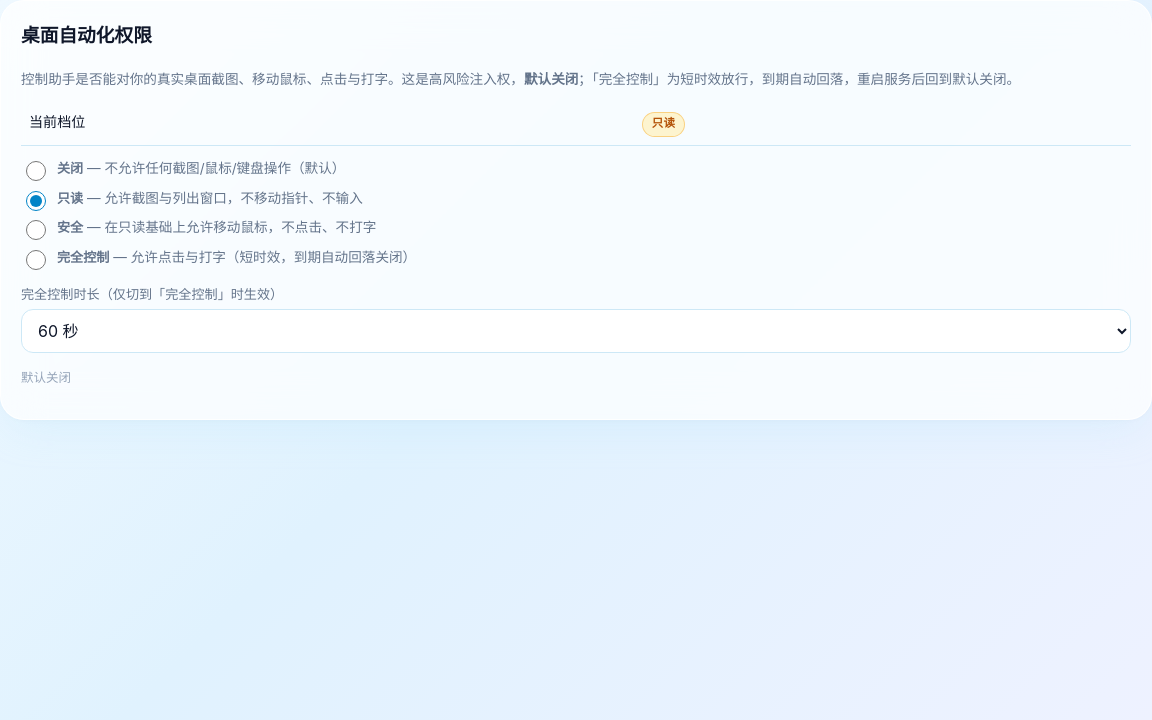
Test: AutomationPermissionCard 关闭档 › 点“关闭”即 PUT off 并提示已关闭（关闭键不是摆设）
Click the radio button with test id "automation-mode-off".
click(36, 171)  # box [26,161,46,181]
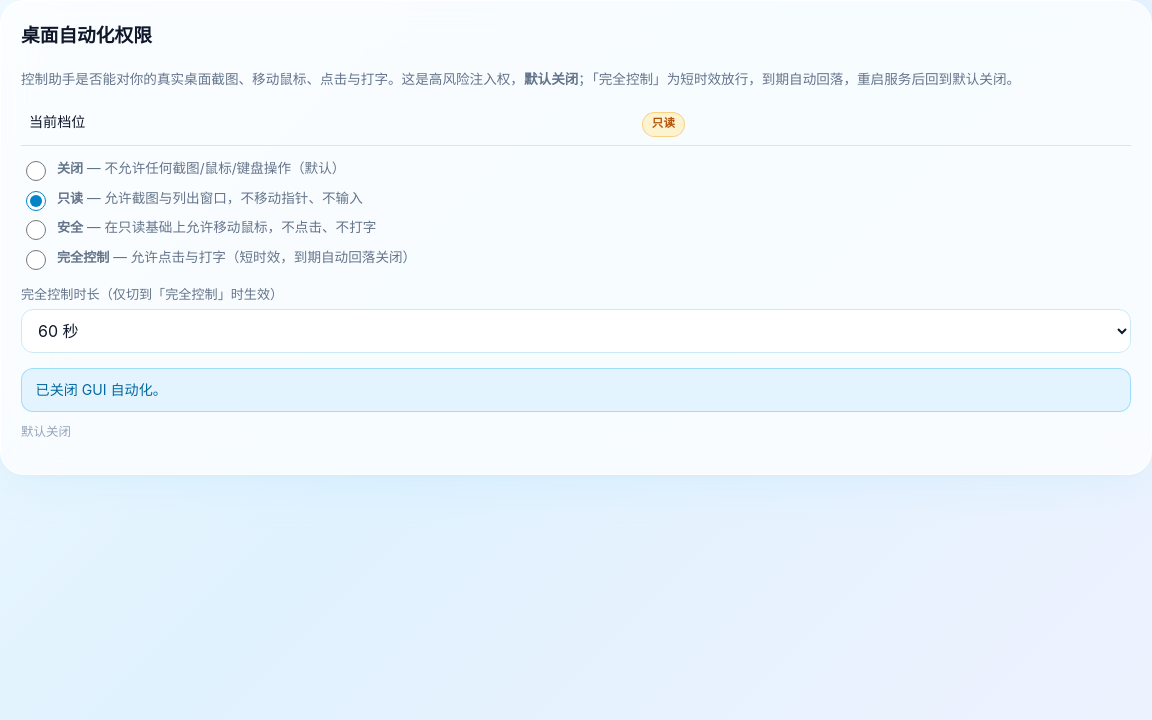
Result: the text with test id "automation-msg" shows "已关闭" at [36,381,167,398]
